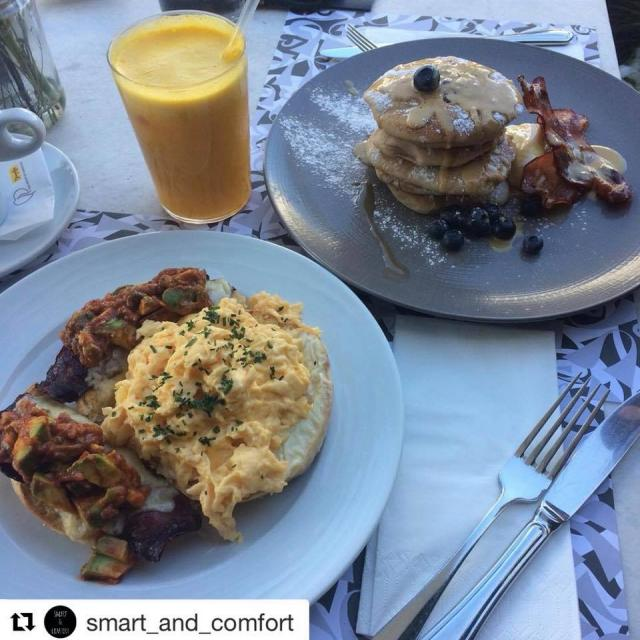Omelette: (107, 292, 336, 506)
Pancakes: (345, 57, 524, 219)
